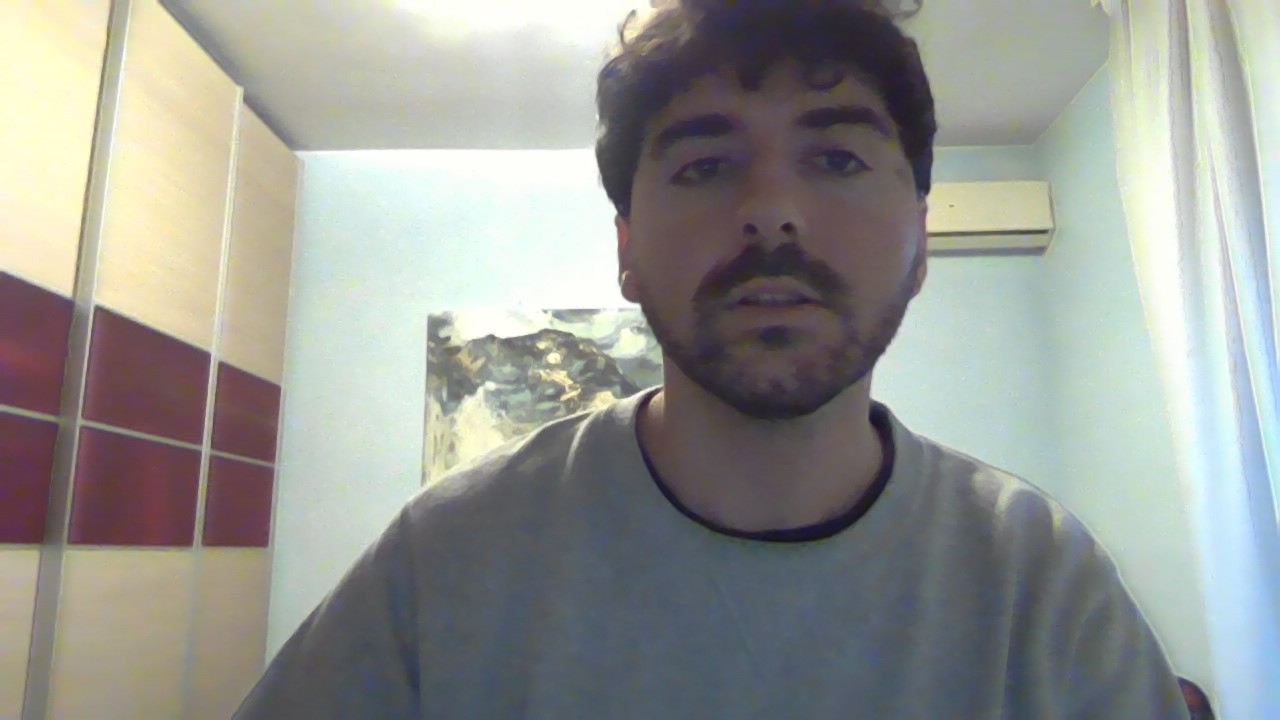NoGlasses: (603, 94, 969, 211)
